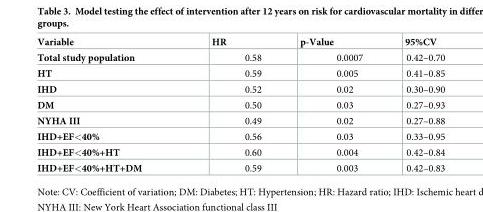table: (36, 36, 444, 173)
table column: (36, 36, 176, 173), (279, 36, 383, 173), (176, 36, 279, 173), (383, 36, 444, 173)
table column header: (36, 36, 444, 49)
table row: (36, 49, 444, 65), (36, 65, 444, 81), (36, 81, 444, 97), (36, 112, 444, 128), (36, 128, 444, 144), (36, 144, 444, 160), (36, 97, 444, 112), (36, 36, 444, 49), (36, 160, 444, 173)
